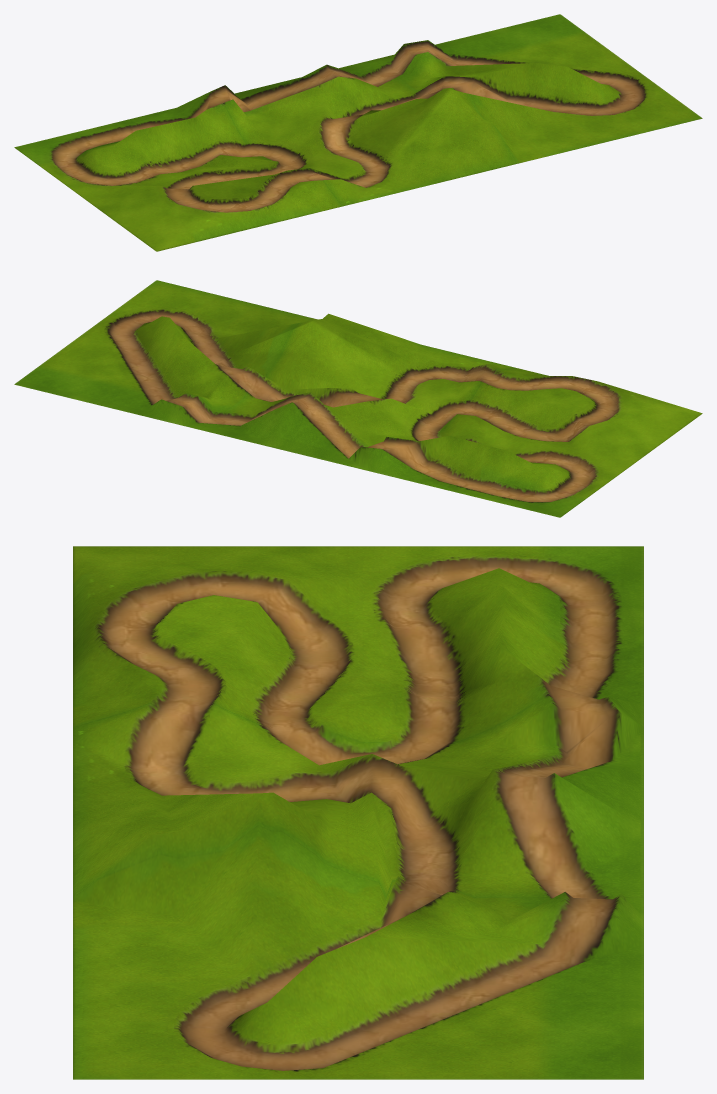
File: track2low.fbx
3 views of the same model, one above another, from view 1: azimuth 30°, elevation 25°; view 2: azimuth 150°, elevation 25°; view 3: azimuth 270°, elevation 25° (orthographic). The views are drawn at different scales.
Visible parts, largest first — view 1: pPlane2; view 2: pPlane2; view 3: pPlane2.
Part boxes in pixels (bbox=[...]): pPlane2: bbox=[14, 14, 702, 251]; pPlane2: bbox=[14, 280, 702, 517]; pPlane2: bbox=[73, 546, 643, 1079].
Size of the model in its own units: 30 by 2.83 by 13.57.
